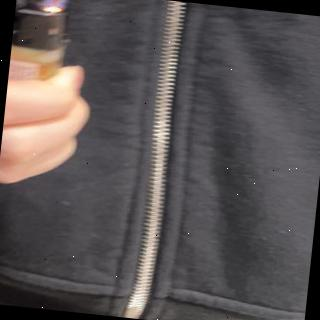fire: (45, 0, 68, 8)
